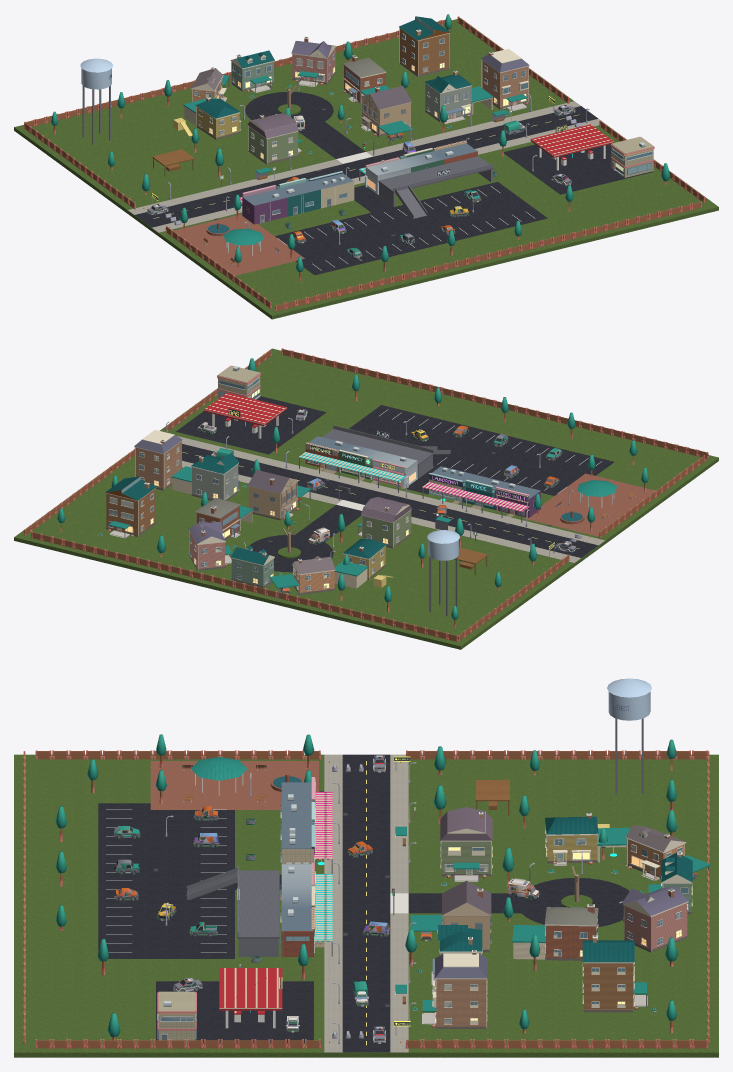
File: pinecrest_low.glb
3 renders of one model, top to bottom at view 1: azimuth 30°, elevation 25°; view 2: azimuth 150°, elevation 25°; view 3: azimuth 270°, elevation 25°, orthographic. The views are drawn at different scales.
Parts seen in each view (by area): view 1: Mat_035_grass, Mat_030_asphalt, Mat_029_colormap, Mat_022_vcol_lit, Mat_040_sidewalk, Mat_024_vcol_lit, Mat_036_pavers, Mat_026_colormap, Mat_037_shingles_teal, Mat_038_shingles_teal, Mat_034_diamond_plate, Mat_033_canopy (+19 smaller); view 2: Mat_035_grass, Mat_030_asphalt, Mat_029_colormap, Mat_022_vcol_lit, Mat_040_sidewalk, Mat_024_vcol_lit, Mat_036_pavers, Mat_026_colormap, Mat_037_shingles_teal, Mat_038_shingles_teal, Mat_033_canopy, Mat_059_brick (+17 smaller); view 3: Mat_035_grass, Mat_030_asphalt, Mat_029_colormap, Mat_022_vcol_lit, Mat_040_sidewalk, Mat_036_pavers, Mat_024_vcol_lit, Mat_026_colormap, Mat_037_shingles_teal, Mat_038_shingles_teal, Mat_034_diamond_plate, Mat_033_canopy (+21 smaller).
Boxes of the visible parts, <box> form: Mat_035_grass: <box>14,18,718,319</box>; Mat_030_asphalt: <box>134,92,653,275</box>; Mat_029_colormap: <box>24,14,705,311</box>; Mat_022_vcol_lit: <box>191,16,654,223</box>; Mat_040_sidewalk: <box>127,101,604,232</box>; Mat_024_vcol_lit: <box>80,58,605,270</box>; Mat_036_pavers: <box>173,214,304,275</box>; Mat_026_colormap: <box>147,105,575,258</box>; Mat_037_shingles_teal: <box>195,16,472,118</box>; Mat_038_shingles_teal: <box>183,71,527,245</box>; Mat_034_diamond_plate: <box>378,156,493,219</box>; Mat_033_canopy: <box>530,124,613,160</box>; Mat_035_grass: <box>14,348,718,649</box>; Mat_030_asphalt: <box>176,396,613,572</box>; Mat_029_colormap: <box>24,348,708,641</box>; Mat_022_vcol_lit: <box>106,365,540,590</box>; Mat_040_sidewalk: <box>130,436,605,562</box>; Mat_024_vcol_lit: <box>109,409,614,616</box>; Mat_036_pavers: <box>524,473,655,536</box>; Mat_026_colormap: <box>196,409,575,593</box>; Mat_037_shingles_teal: <box>105,453,386,564</box>; Mat_038_shingles_teal: <box>109,466,616,588</box>; Mat_033_canopy: <box>204,392,286,427</box>; Mat_059_brick: <box>135,441,181,488</box>; Mat_035_grass: <box>14,754,718,1057</box>; Mat_030_asphalt: <box>98,754,629,1052</box>; Mat_029_colormap: <box>23,734,709,1048</box>; Mat_022_vcol_lit: <box>157,777,692,1040</box>; Mat_040_sidewalk: <box>324,754,408,1052</box>; Mat_036_pavers: <box>150,761,318,809</box>; Mat_024_vcol_lit: <box>106,678,709,1045</box>; Mat_026_colormap: <box>114,755,697,1043</box>; Mat_037_shingles_teal: <box>438,816,692,962</box>; Mat_038_shingles_teal: <box>191,756,710,1011</box>; Mat_034_diamond_plate: <box>187,870,279,938</box>; Mat_033_canopy: <box>219,968,282,1014</box>.
Size of the model in its own units: 134 by 24 by 134.
Materials: 74 (48 with a texture image).
